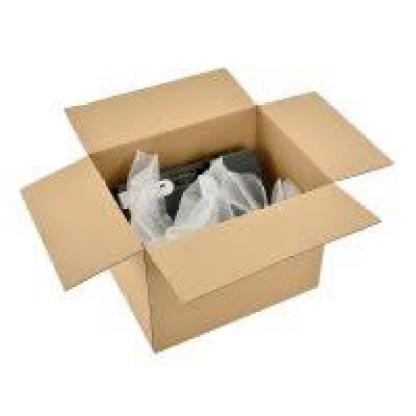CARDBOARD: (17, 66, 389, 350)
PLASTIC: (164, 154, 268, 231), (121, 146, 172, 241), (262, 172, 302, 200)
